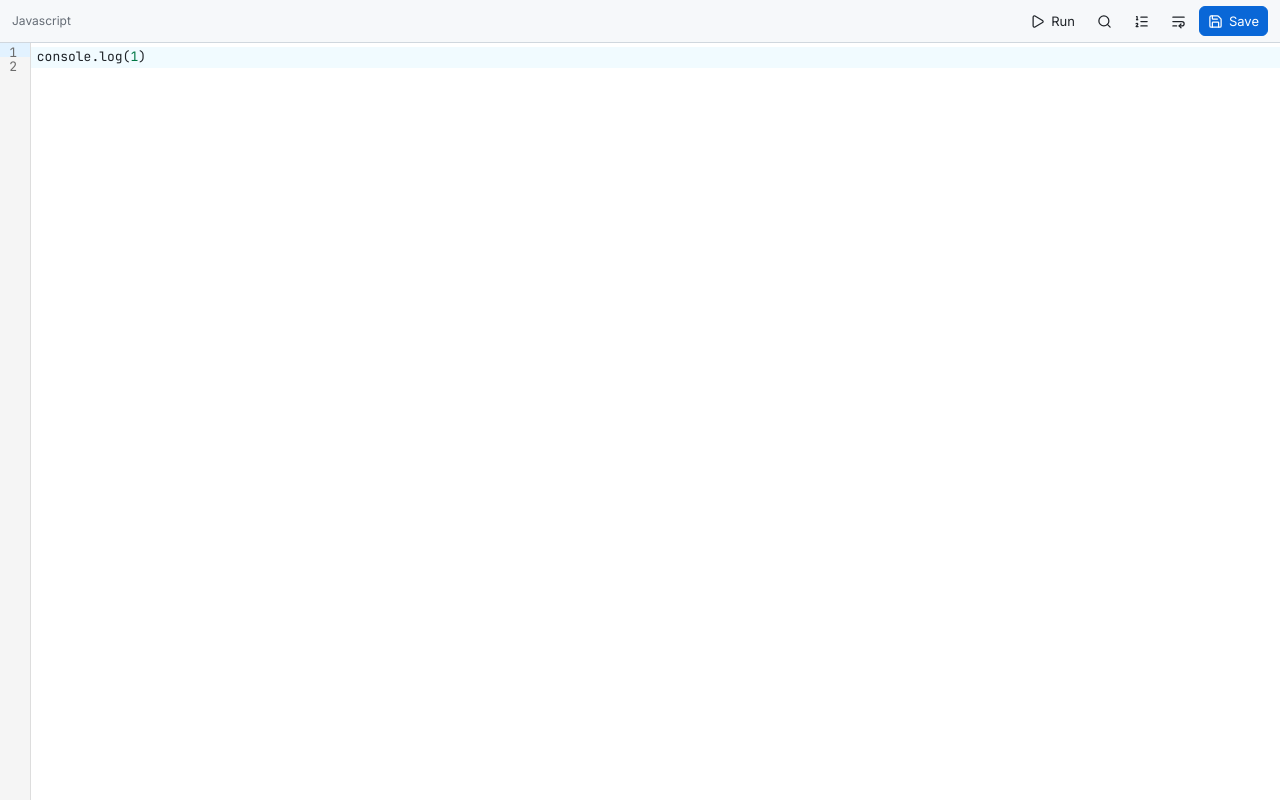
Test: CodeViewer — run (USR-19) › stops the run when the viewer is closed mid-run, instead of leaving it orphaned
This screenshot has width=1280, height=800.
Expected: the field with class "cm-content" is shown, [31,47,1279,68]
Click the button "Run".
click(1053, 21)  # box [1021,6,1084,36]
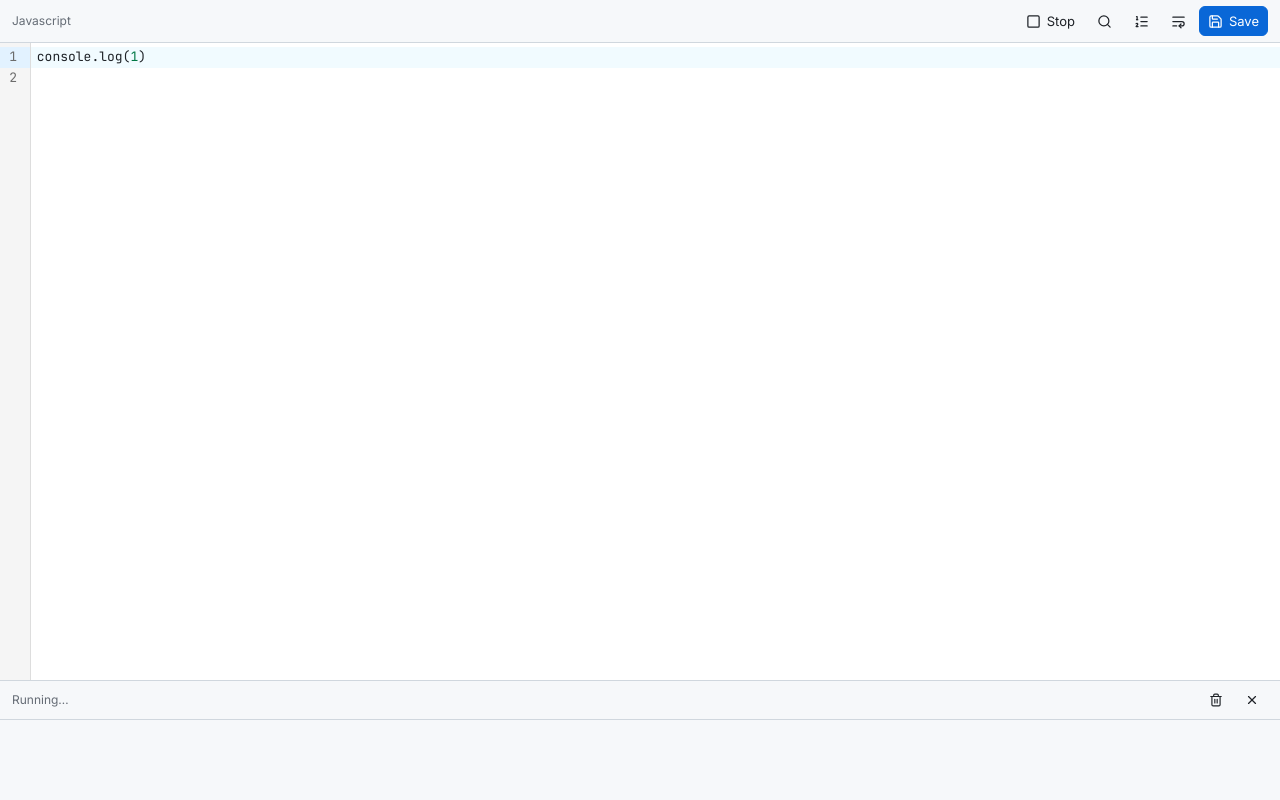
Result: the button "Stop" is shown at [1017,6,1084,36]
